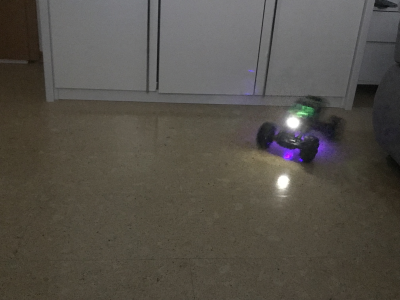remote control car: (254, 92, 348, 166)
